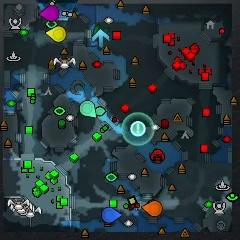Other: (130, 120, 146, 137)
p1: (102, 207, 122, 223)
p2: (80, 100, 96, 118)
p3: (38, 6, 60, 21)
p4: (46, 26, 66, 42)
p5: (141, 201, 163, 216)
x3: (93, 30, 109, 47)
x4: (94, 24, 108, 36)
